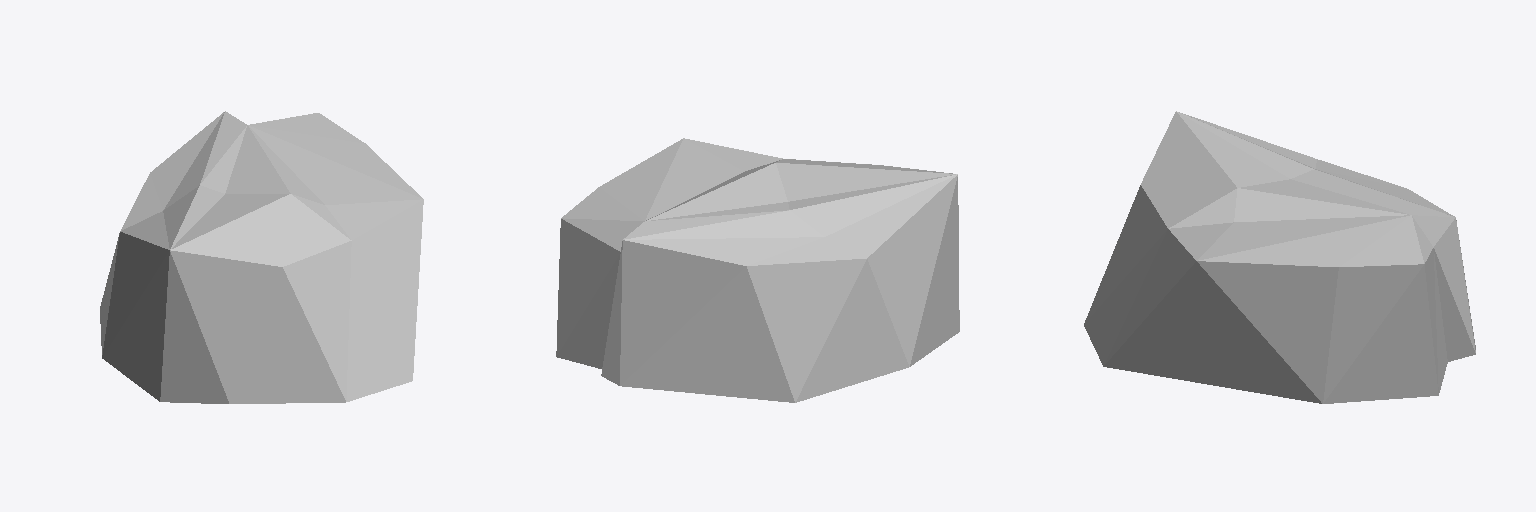
Rendered from rock15.obj.
3 renders of one model, left to right at view 1: azimuth 30°, elevation 25°; view 2: azimuth 150°, elevation 25°; view 3: azimuth 270°, elevation 25°, orthographic.
Parts seen in each view (by area): view 1: Rock6_Cylinder.035; view 2: Rock6_Cylinder.035; view 3: Rock6_Cylinder.035.
Boxes of the visible parts, box(x1,y1,x2,y2) form: Rock6_Cylinder.035: box(100, 111, 423, 403); Rock6_Cylinder.035: box(556, 138, 959, 402); Rock6_Cylinder.035: box(1084, 111, 1475, 403).
Bounding box in the file's own units: 1.31 × 0.6572 × 1.51.